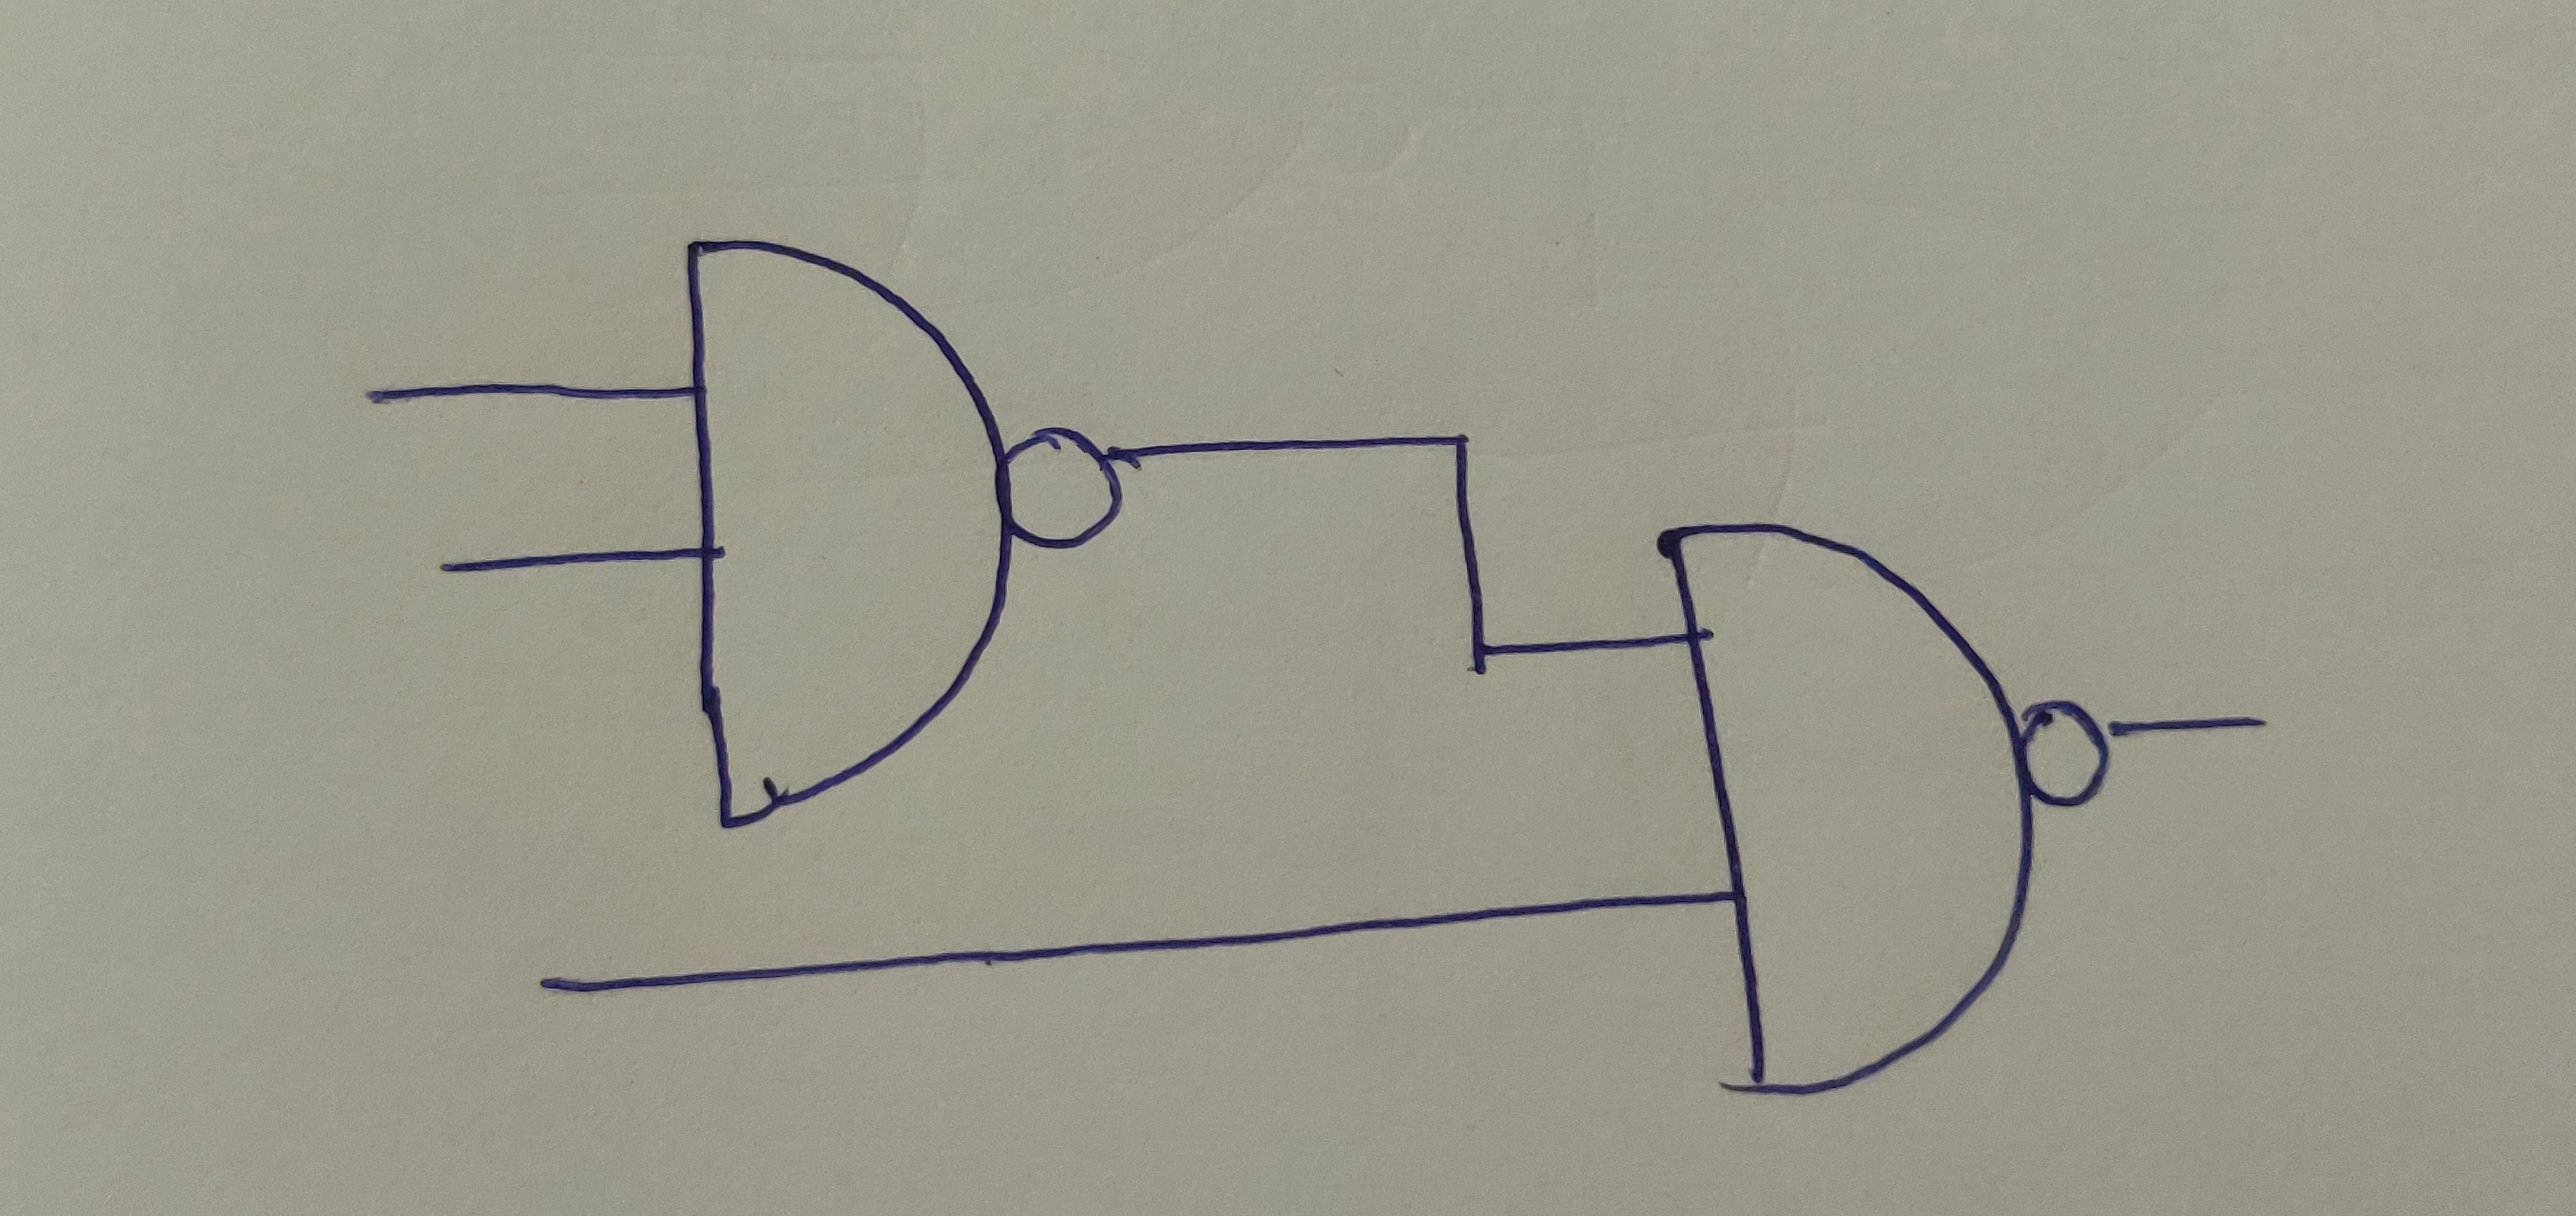and: (1659, 523, 2039, 1098), (683, 230, 1004, 836)
not: (1001, 432, 1124, 550), (2022, 693, 2109, 812)
